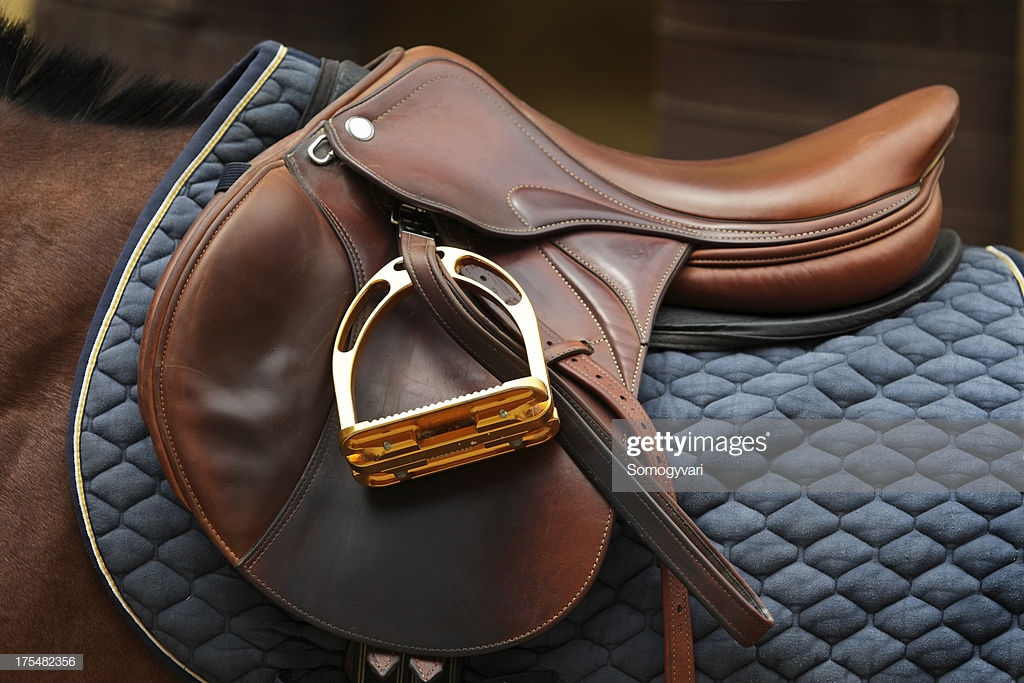saddle: (161, 41, 961, 607)
